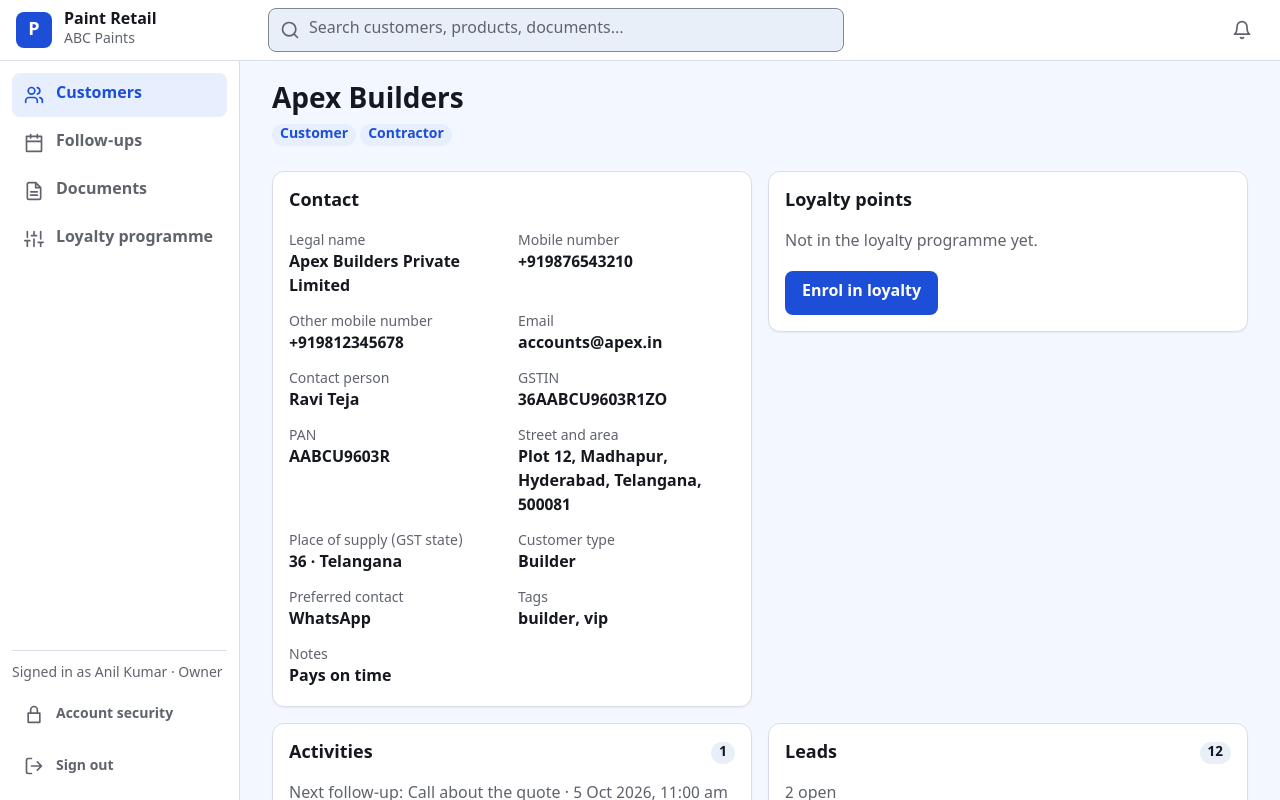
Test case: LoyaltyPanel › enrols without a salesperson for members who cannot see the team
Expected: the heading "Apex Builders" is shown, x1=272 y1=85 x2=464 y2=119
Click the button "Enrol in loyalty": point(862, 293) x1=785 y1=271 x2=938 y2=315
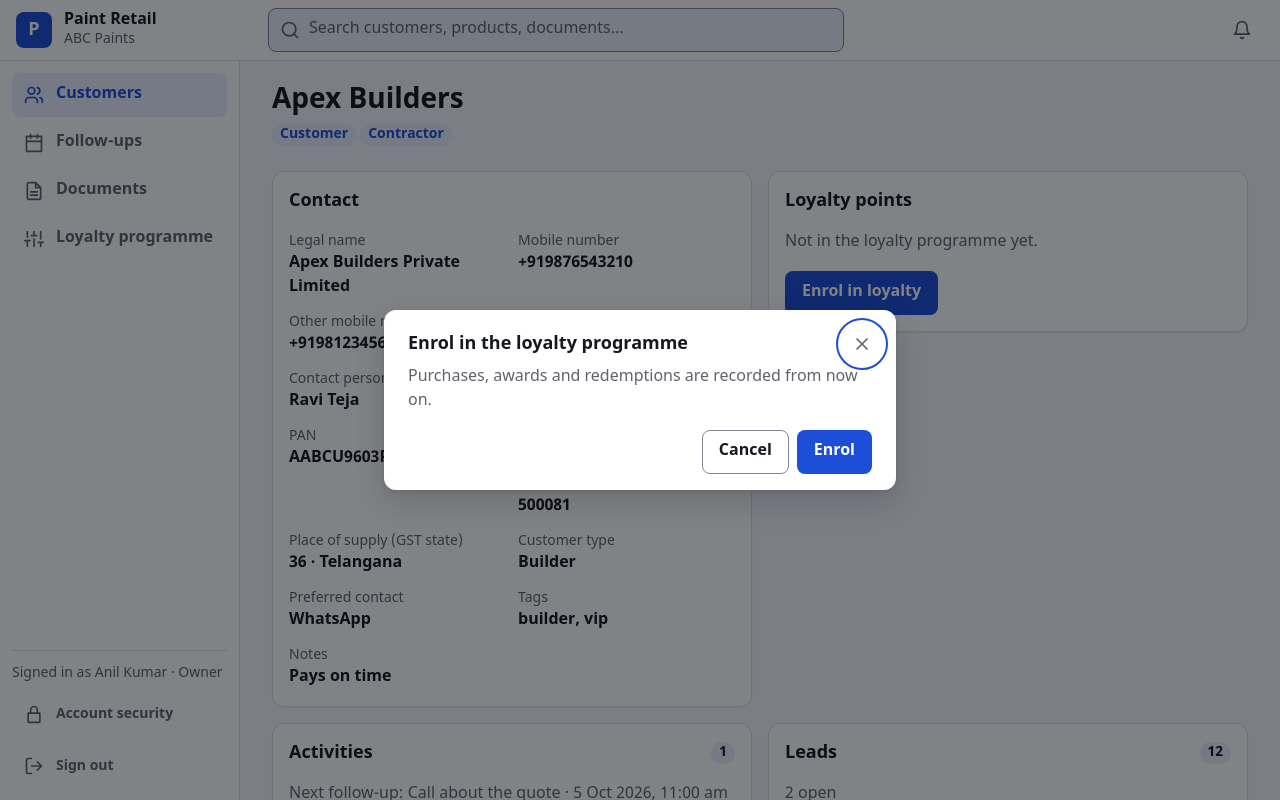
Click the button "Cancel": point(745, 452) x1=702 y1=430 x2=789 y2=474
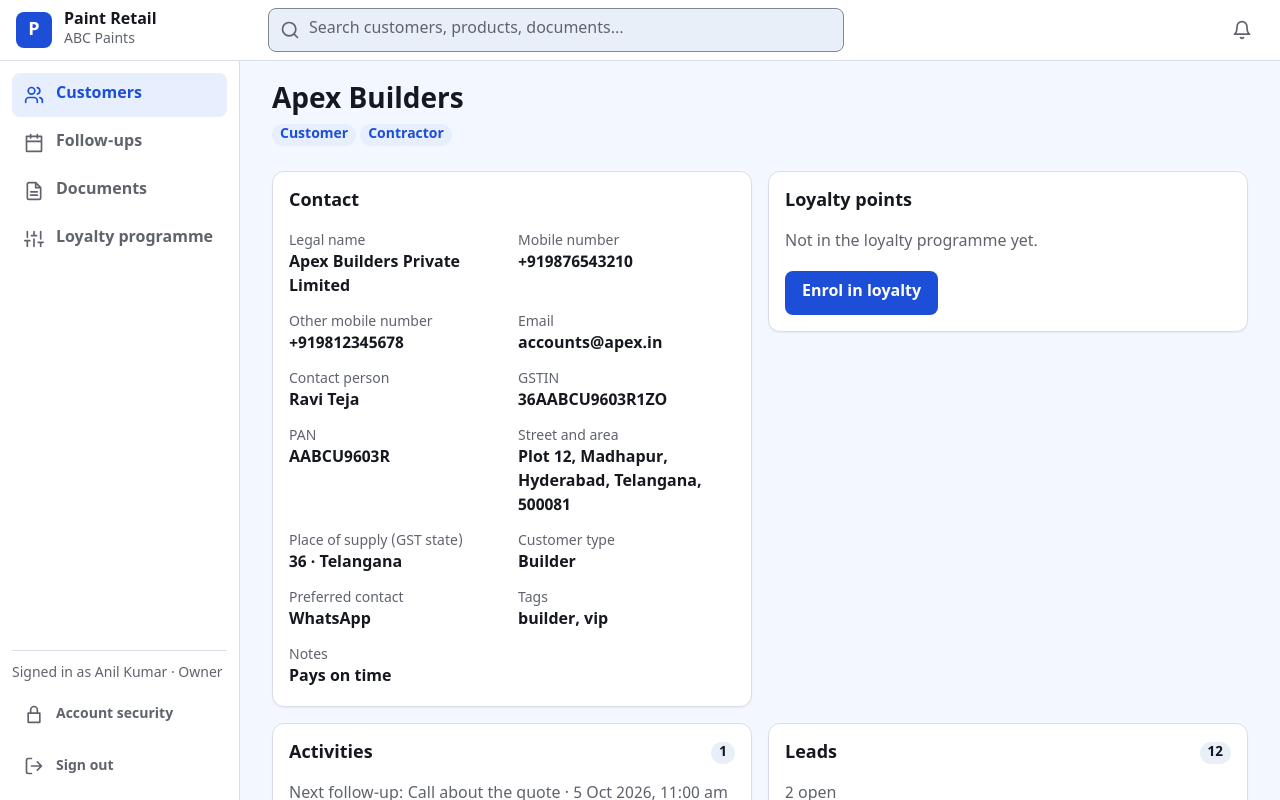
Expected: the dialog is gone
Click the button "Enrol in loyalty": point(862, 293) x1=785 y1=271 x2=938 y2=315
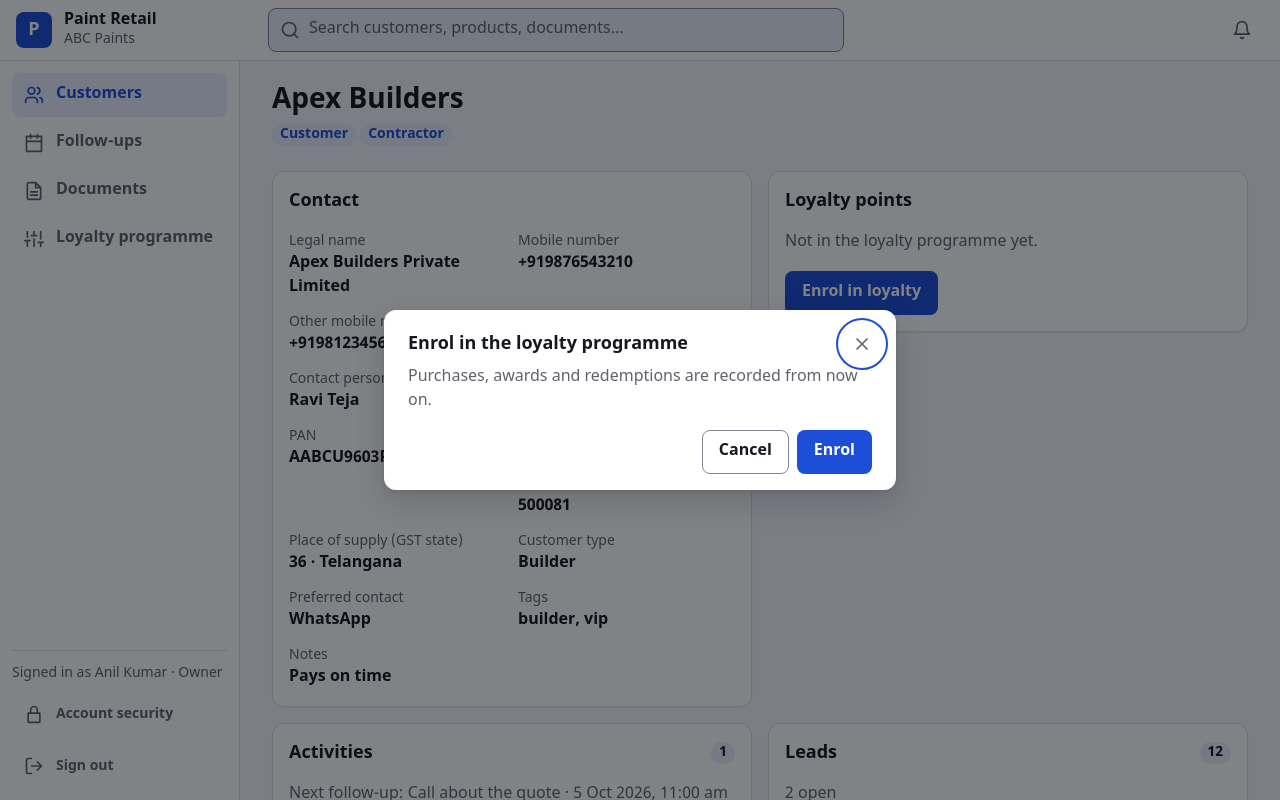
Click the button "Enrol": point(834, 452) x1=797 y1=430 x2=872 y2=474
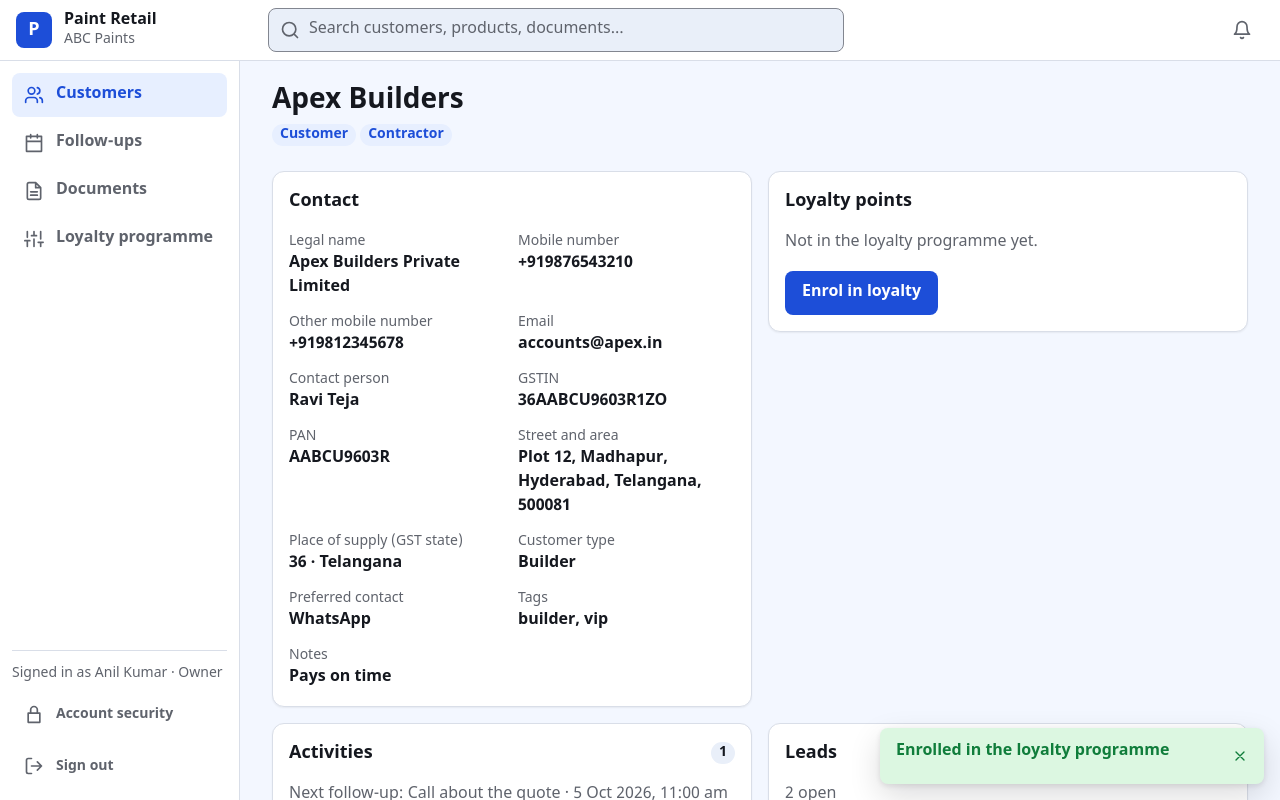
Expected: the text "Enrolled in the loyalty programme" is shown, x1=896 y1=740 x2=1212 y2=764
